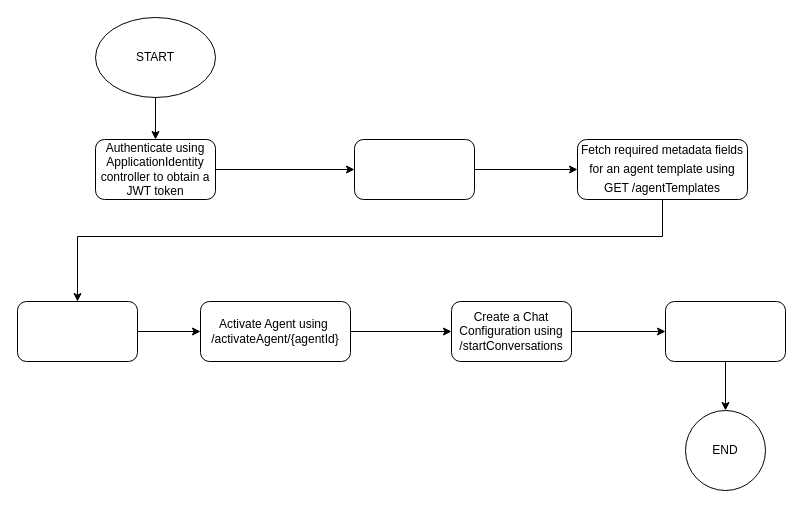
Image size: 803x508. Some labels were removed from this diagram. Here are the shapes that lost their labels. From the top down, the centre of each, then its label:
pixel 414 169: Create Tenants under the authenticated application
pixel 77 331: Create the agent for a specific tenant using /agents/createAgent
pixel 725 331: Start chatting via /chat/chat
